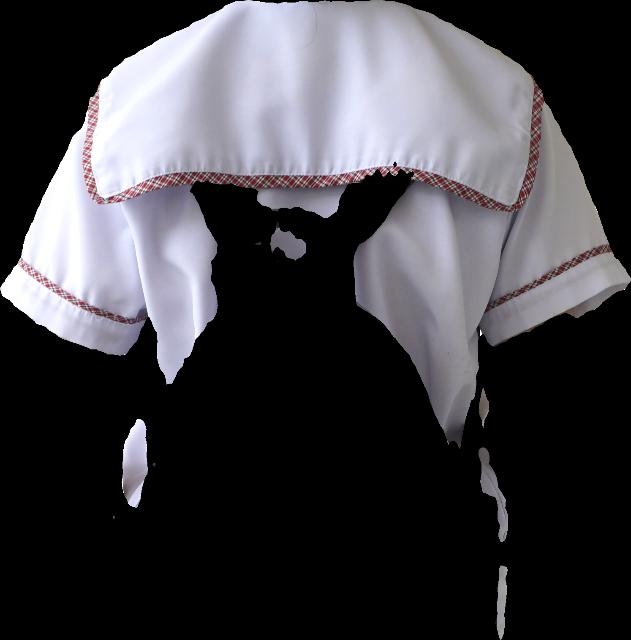pologirl: (1, 0, 630, 447)
